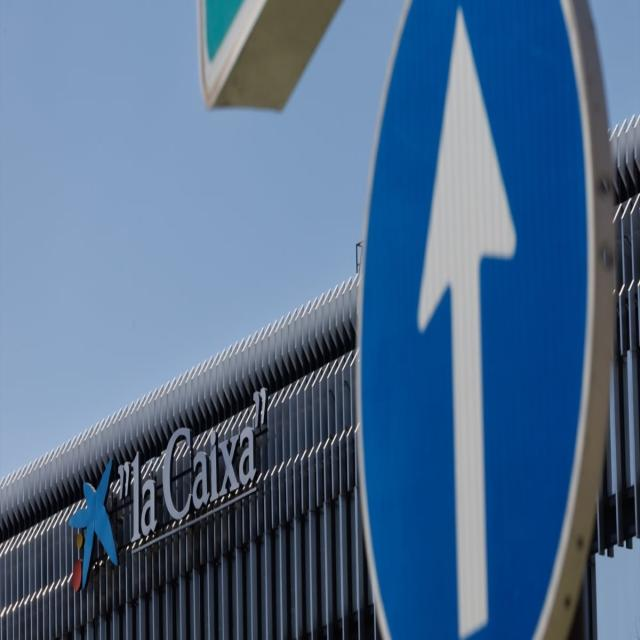STRAIGHT: (358, 0, 618, 638)
